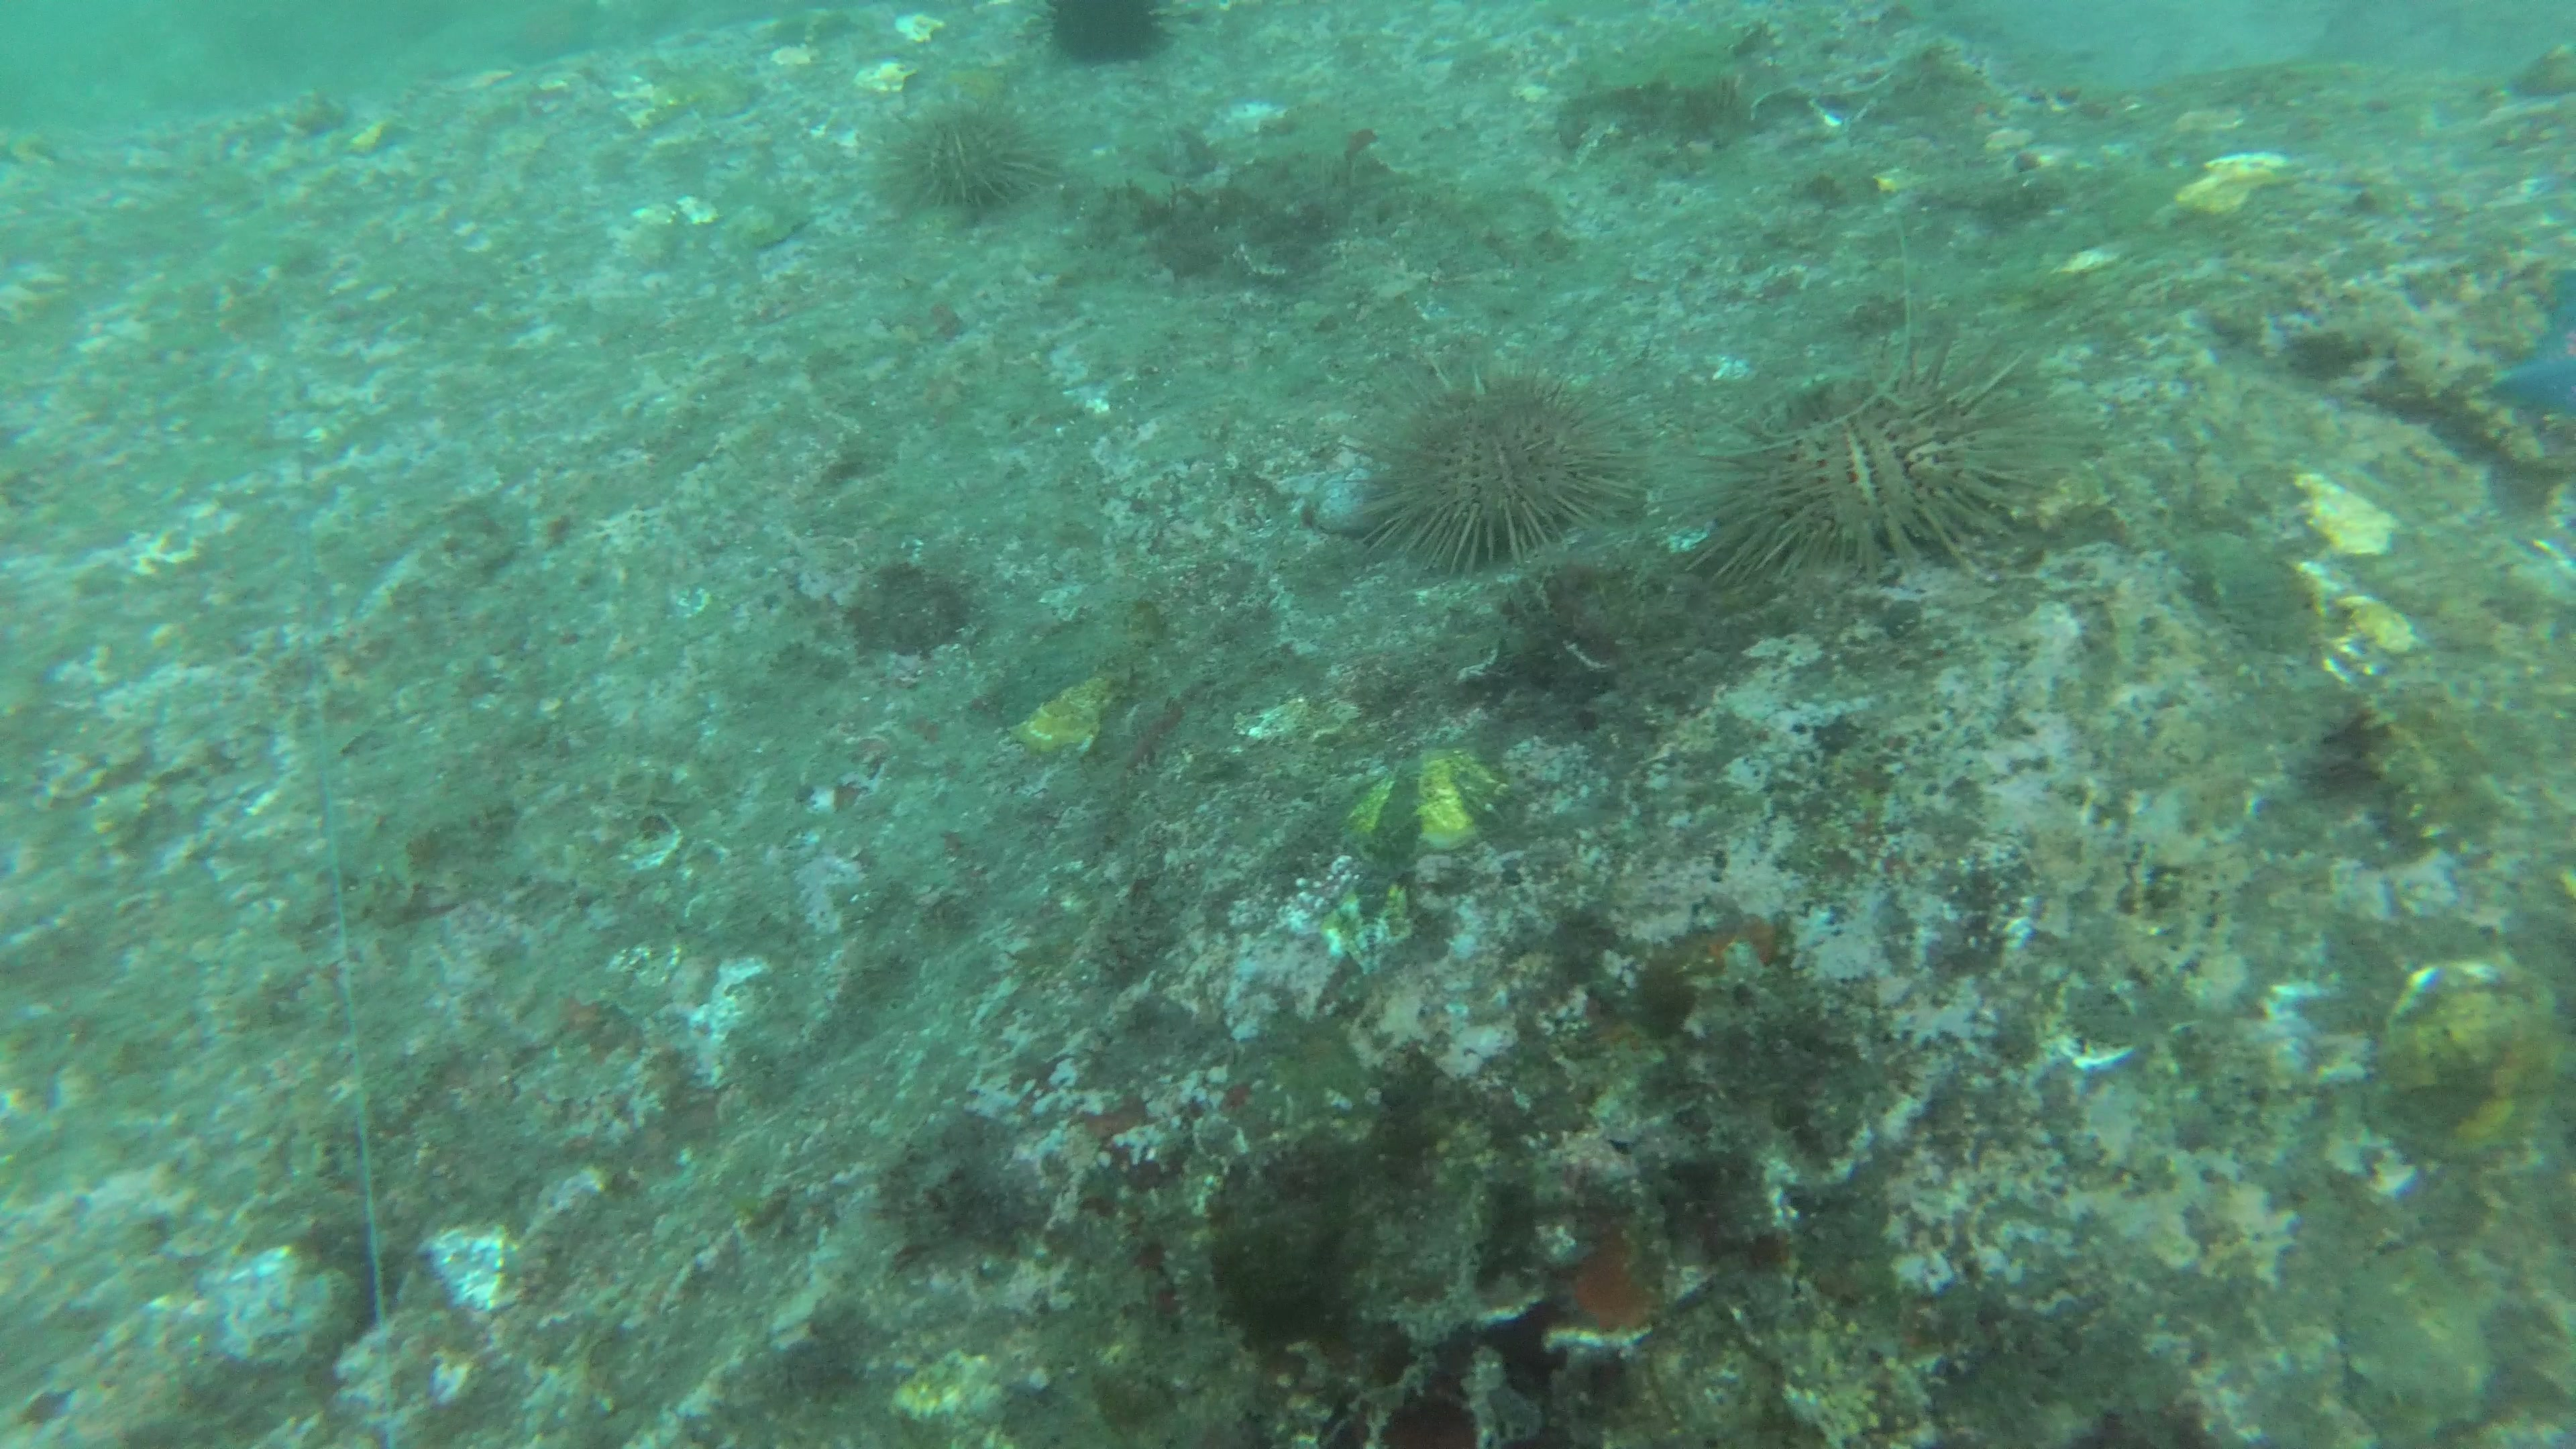echinus: (1714, 366, 2035, 586), (1352, 379, 1647, 557), (895, 85, 1053, 214), (1044, 9, 1184, 62)
scallop: (2378, 941, 2546, 1169), (1327, 743, 1516, 856)
starfish: (2479, 281, 2576, 474)
